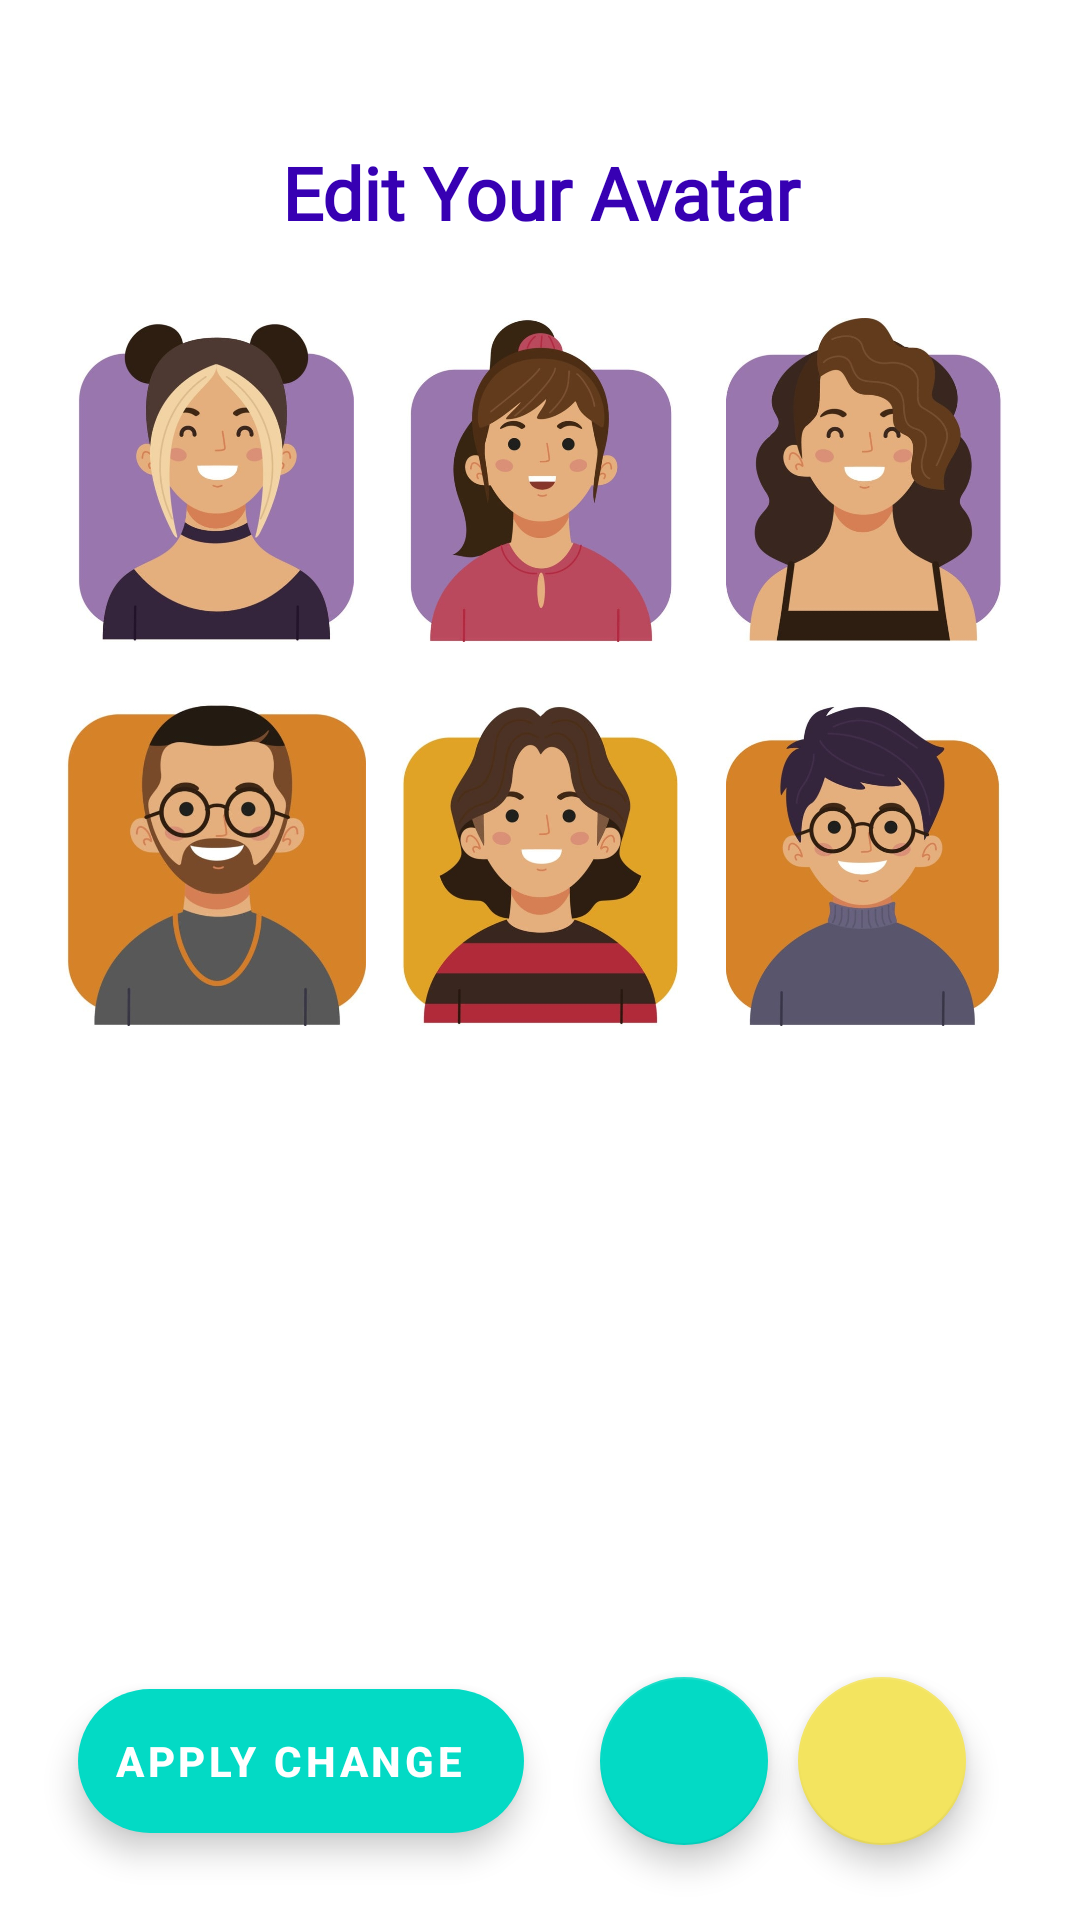

Named icons in this screenshot (1080×1920) and their bounding boxes, (x1, y1, x2, y2):
female: (726, 318, 1001, 641), (411, 320, 672, 642), (79, 324, 354, 641)
male: (67, 705, 366, 1026), (403, 707, 678, 1024), (726, 707, 1000, 1026)
